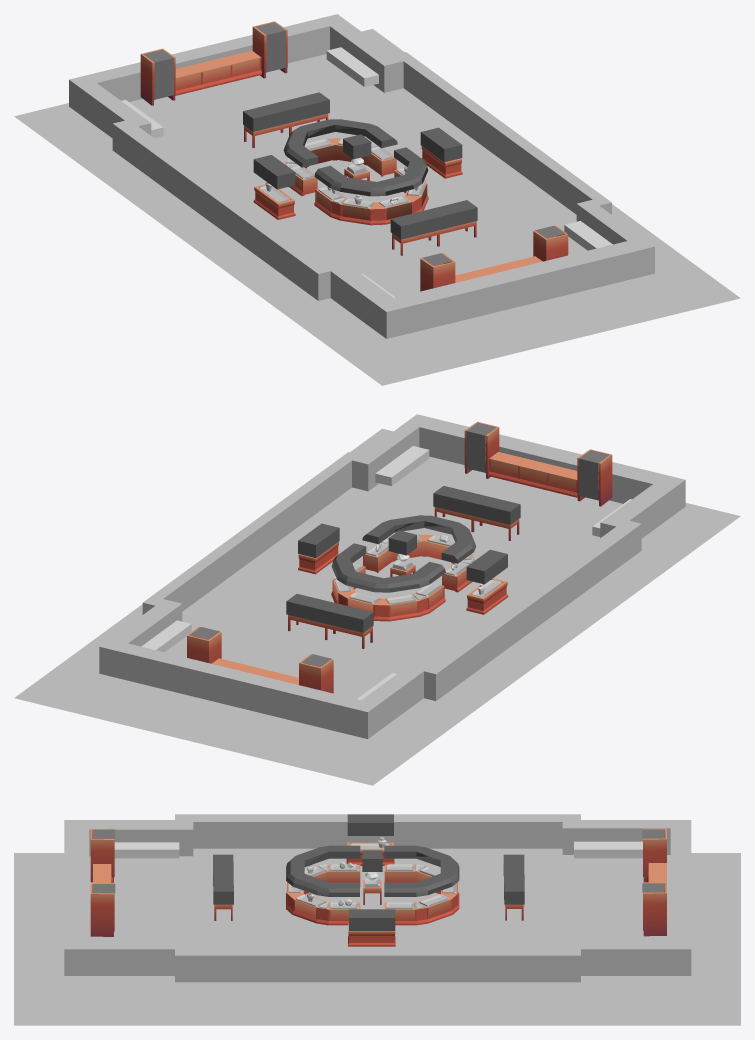
File: Nivel1.FBX
The picture shows the model from 3 angles, top to bottom: view 1: azimuth 30°, elevation 25°; view 2: azimuth 150°, elevation 25°; view 3: azimuth 270°, elevation 25°; orthographic projection.
Parts seen in each view (by area): view 1: Walls, Floor, Squematics, Glass007, Counteresquerda, Glass008, roundcounterdireito, Glass014, Glass011, Roundcounter esq, Spawn2, Glass009 (+11 smaller); view 2: Walls, Floor, Squematics, counterdireita, Glass008, Glass007, Glass011, Glass014, Roundcounter esq, roundcounterdireito, Spawn3, Showcasedown (+11 smaller); view 3: Squematics, Walls, Floor, Glass008, Glass007, Roundcounter esq, roundcounterdireito, Spawn1, Shelfdireiraup, Shelfesquedaup, Spawn4, Glass011 (+10 smaller).
Part boxes in pixels (x1,y1,x2,y2): Walls: (69, 14, 654, 338); Floor: (129, 54, 587, 297); Squematics: (14, 29, 740, 385); Glass007: (314, 147, 428, 196); Counteresquerda: (175, 50, 261, 95); Glass008: (283, 119, 397, 167); roundcounterdireito: (314, 169, 428, 225); Glass014: (390, 200, 477, 239); Glass011: (243, 92, 329, 131); Roundcounter esq: (285, 138, 396, 196); Spawn2: (326, 47, 378, 86); Glass009: (253, 155, 295, 189); Walls: (99, 414, 685, 738); Floor: (165, 456, 622, 698); Squematics: (14, 428, 740, 785); counterdireita: (488, 452, 577, 497); Glass008: (331, 543, 445, 592); Glass007: (362, 515, 475, 563); Glass011: (286, 594, 373, 632); Glass014: (433, 486, 520, 524); Roundcounter esq: (331, 566, 445, 621); roundcounterdireito: (363, 534, 474, 592); Spawn3: (375, 446, 429, 486); Showcasedown: (466, 578, 508, 614); Squematics: (14, 853, 740, 1025); Walls: (64, 814, 691, 982); Floor: (89, 848, 670, 949); Glass008: (384, 845, 459, 896); Glass007: (286, 845, 360, 896); Roundcounter esq: (384, 864, 459, 925); roundcounterdireito: (286, 864, 360, 925); Spawn1: (574, 841, 642, 858); Shelfdireiraup: (90, 883, 114, 936); Shelfesquedaup: (643, 882, 666, 936); Spawn4: (114, 842, 179, 858); Glass011: (503, 854, 524, 904).
Size of the model in its own units: 13664 by 2711 by 24292.
